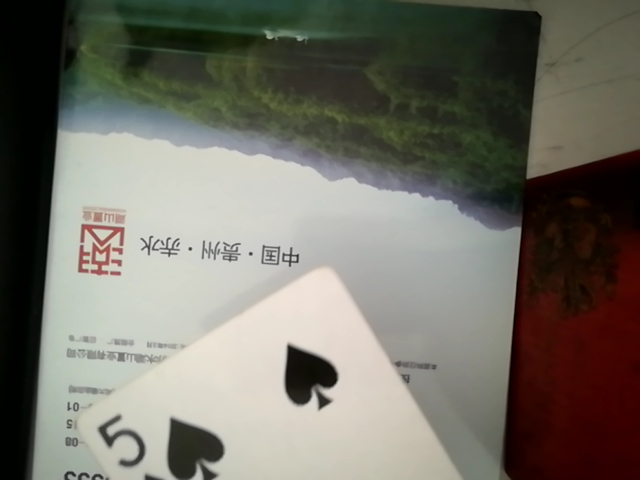ht 5: (37, 254, 539, 480)
